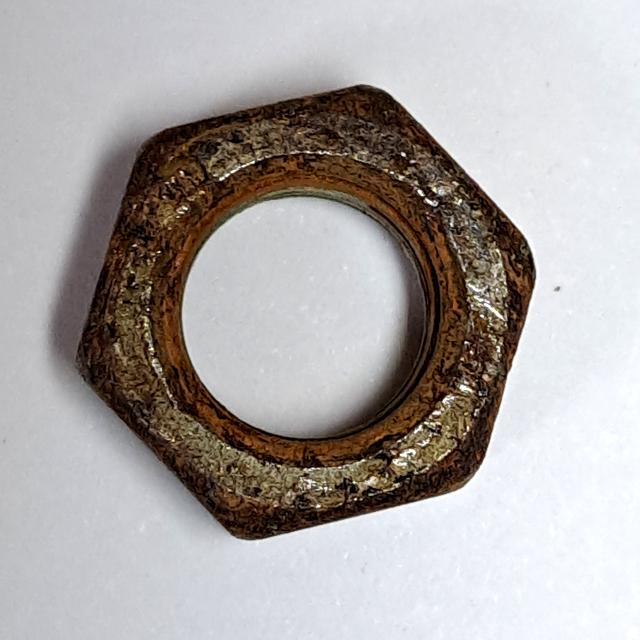Rust: (64, 73, 549, 555)
